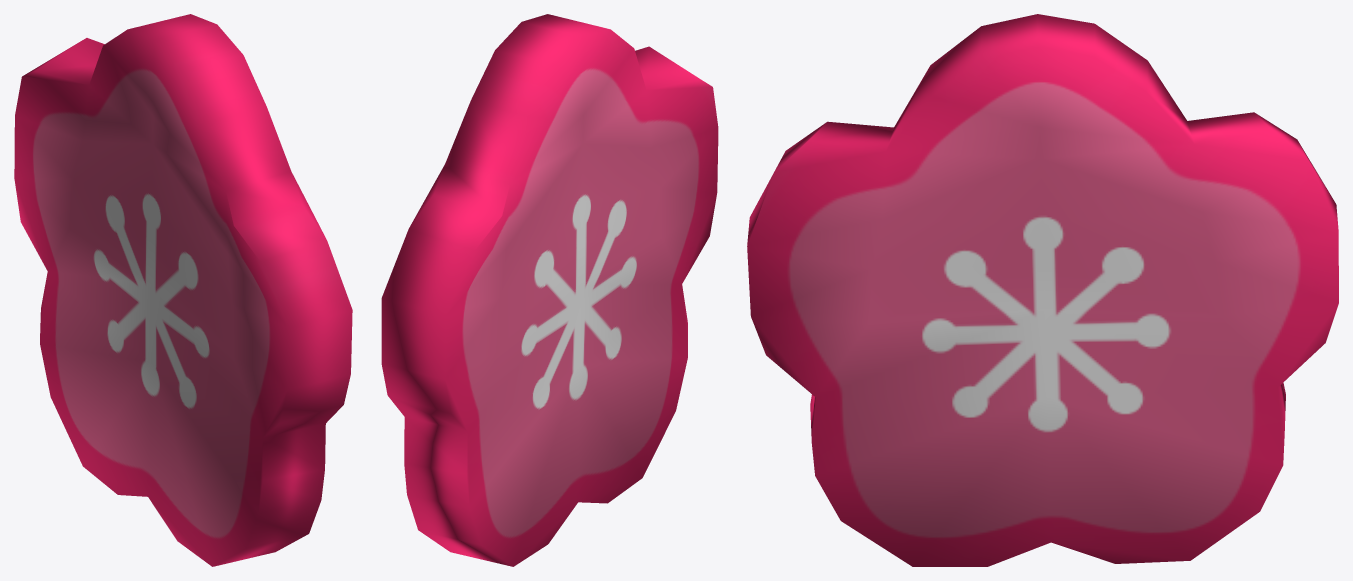
Rendered from hana3.fbx.
The picture shows the model from 3 angles, left to right: view 1: azimuth 30°, elevation 25°; view 2: azimuth 150°, elevation 25°; view 3: azimuth 270°, elevation 25°; orthographic projection. The views are drawn at different scales.
Visible parts, largest first — view 1: pasted__pasted__polySurface1; view 2: pasted__pasted__polySurface1; view 3: pasted__pasted__polySurface1.
Boxes of the visible parts, x1,y1,x2,y2 form: pasted__pasted__polySurface1: (14, 14, 352, 566); pasted__pasted__polySurface1: (381, 14, 718, 566); pasted__pasted__polySurface1: (747, 14, 1338, 566).
Size of the model in its own units: 0.2853 by 1.52 by 1.57.
1 material, 1 textured.
